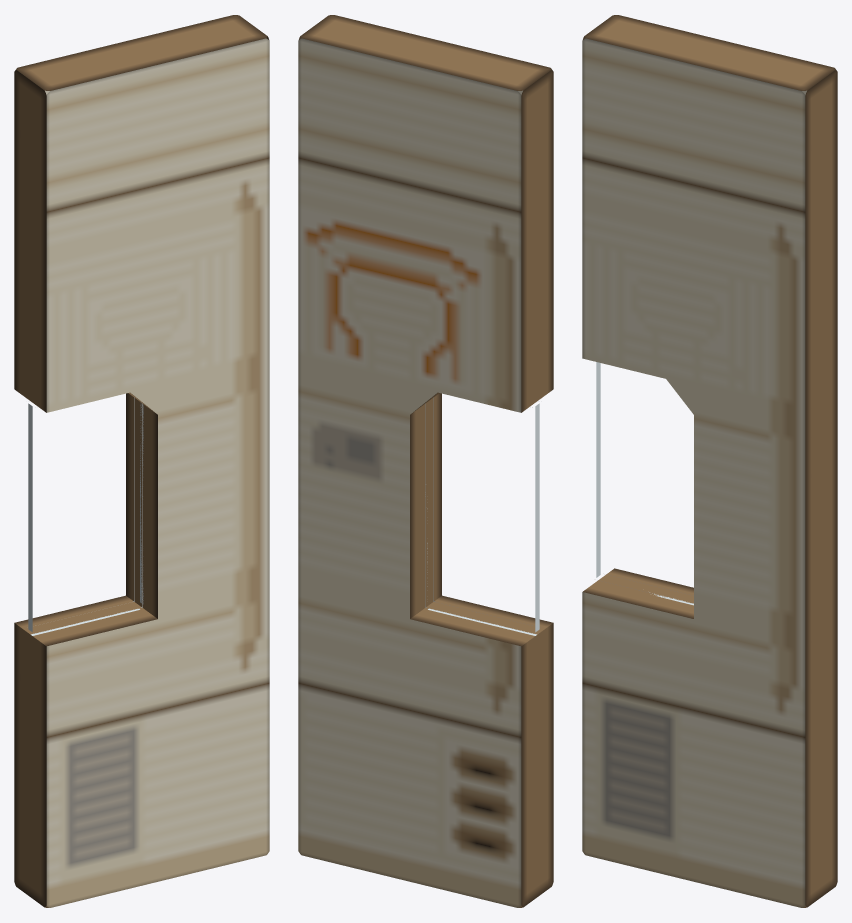
File: tile_wall_window_l.obj
The picture shows the model from 3 angles, left to right: view 1: azimuth 30°, elevation 25°; view 2: azimuth 150°, elevation 25°; view 3: azimuth 330°, elevation 25°; orthographic projection.
Parts seen in each view (by area): view 1: wall, window; view 2: wall, window; view 3: wall, window.
Part boxes in pixels (bbox=[...]): wall: bbox=[14, 15, 269, 907]; window: bbox=[28, 397, 143, 635]; wall: bbox=[298, 15, 553, 907]; window: bbox=[425, 397, 539, 635]; wall: bbox=[582, 15, 837, 907]; window: bbox=[596, 362, 693, 605].
Bounding box in the file's own units: 1 × 3.5 × 0.25.
Materials: 1 (1 with a texture image).
